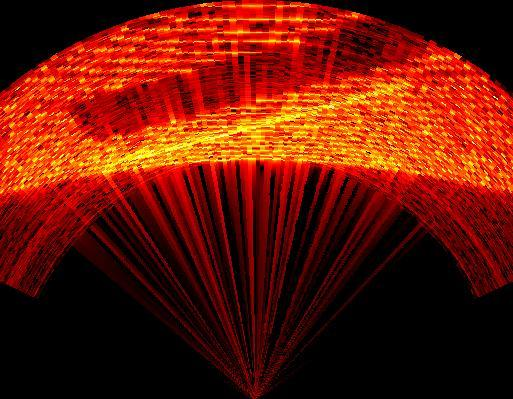pipe: (70, 22, 426, 142)
